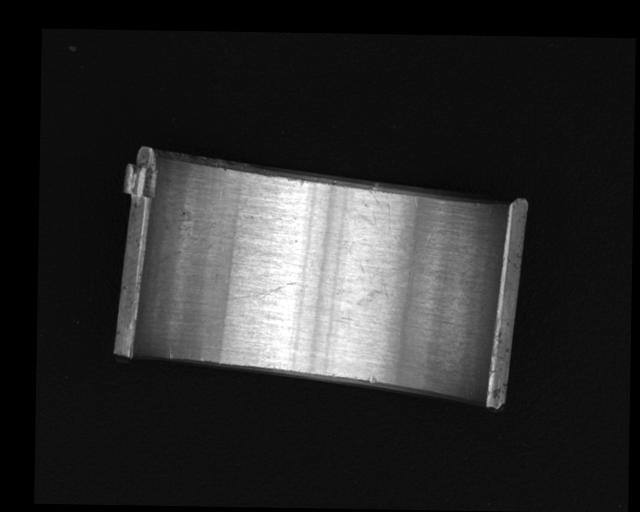blot: (354, 262, 410, 309)
bruise: (368, 375, 377, 384)
nick: (167, 345, 174, 360)
